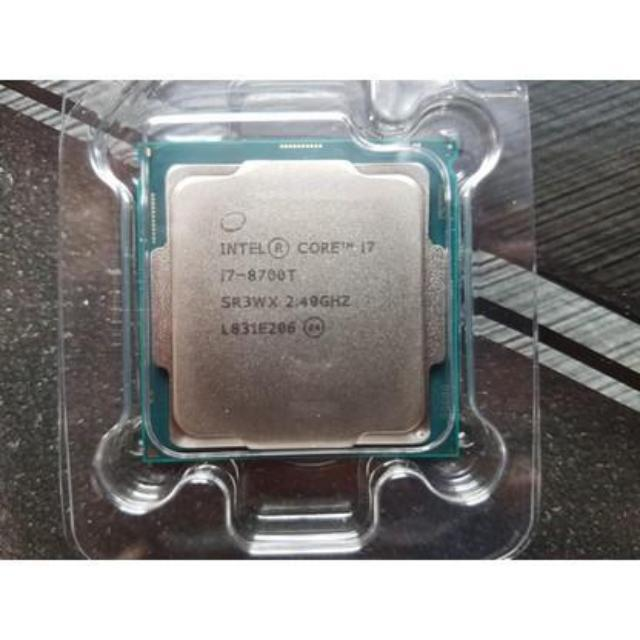CPU: (144, 146, 453, 449)
